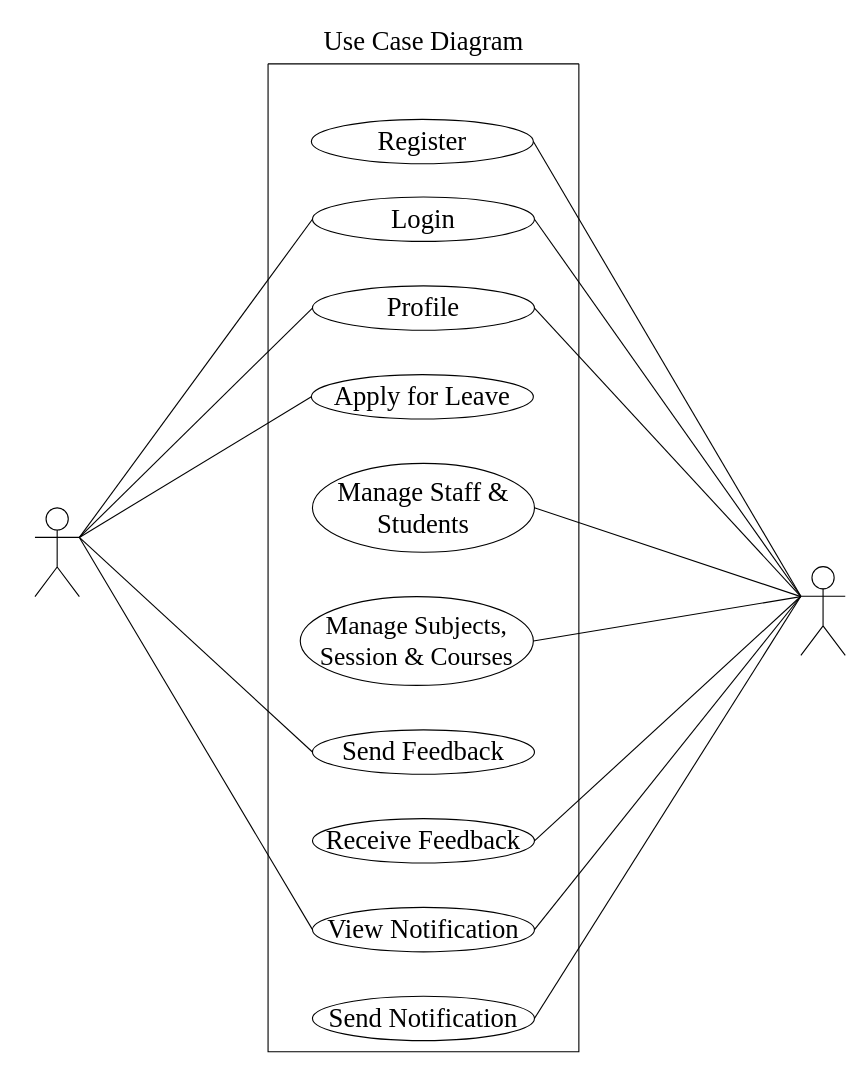
The diagram is 865 pixels wide and 1071 high, and some of its shapes have lost their labels. Here are the shapes that lost their labels. From the top down, the centre of each, then its label:
At point 56,552: "Student/Staff".
At point 822,610: "Admin".
